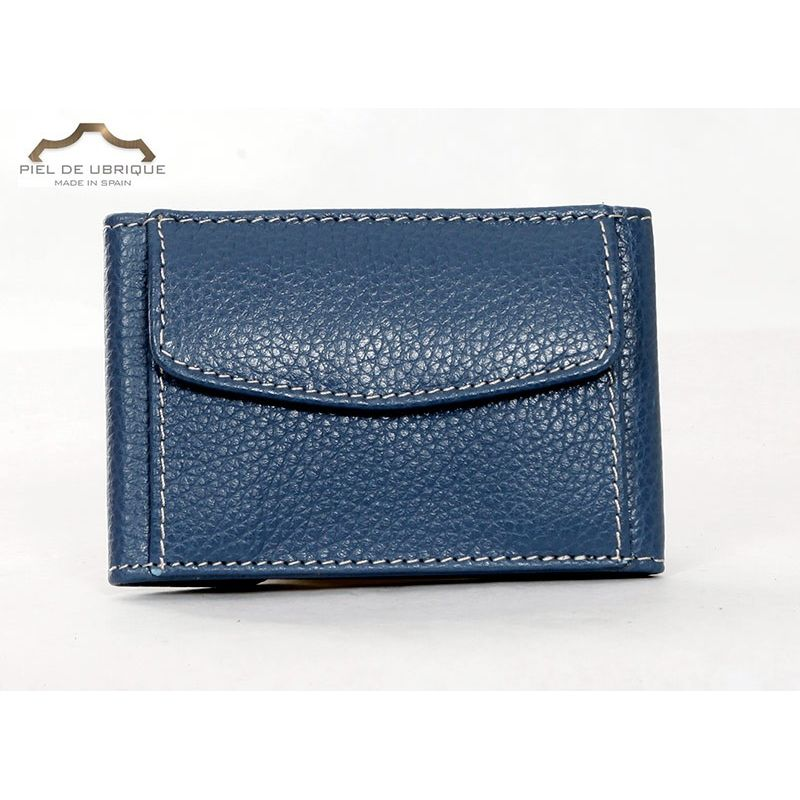monedero: (105, 204, 667, 589)
